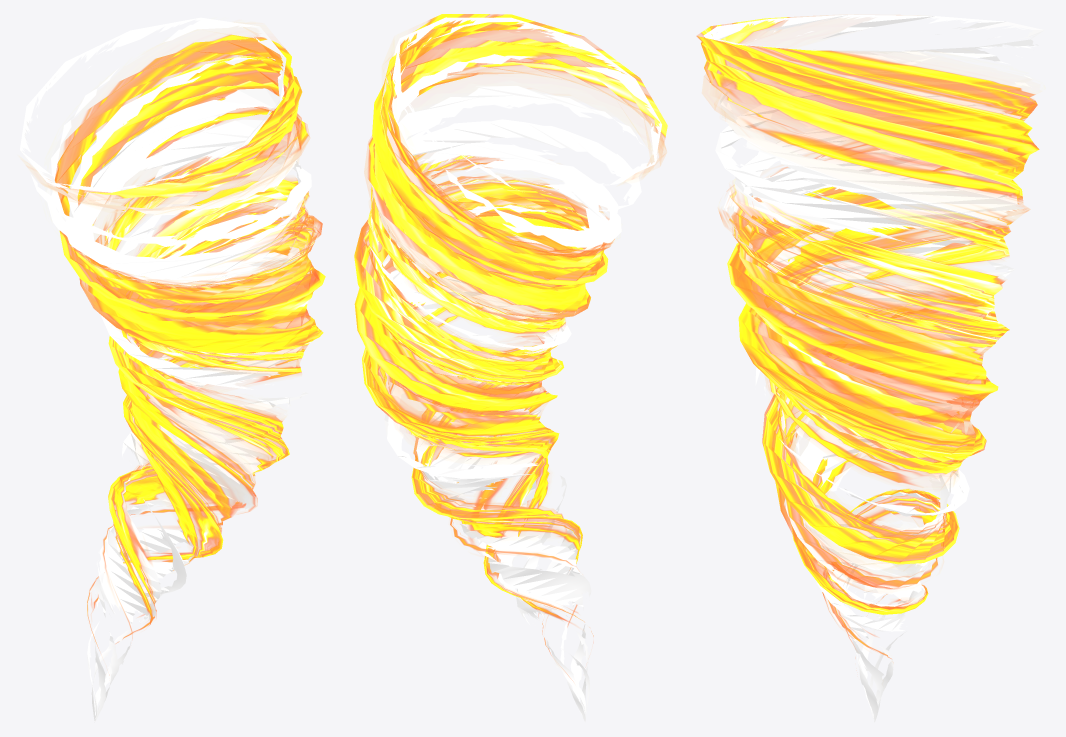
File: fire_temp_model.glb
3 renders of one model, left to right at view 1: azimuth 30°, elevation 25°; view 2: azimuth 150°, elevation 25°; view 3: azimuth 270°, elevation 25°, orthographic. The views are drawn at different scales.
Parts seen in each view (by area): view 1: Tube_0, Tube 1_1, Tube 2_2; view 2: Tube 1_1, Tube_0, Tube 2_2; view 3: Tube 1_1, Tube 2_2, Tube_0.
Boxes of the visible parts, <box> form: Tube_0: <box>20,17,311,722</box>; Tube 1_1: <box>26,28,325,638</box>; Tube 2_2: <box>79,150,323,650</box>; Tube 1_1: <box>354,14,667,626</box>; Tube_0: <box>362,17,661,722</box>; Tube 2_2: <box>354,153,603,680</box>; Tube 1_1: <box>696,15,1039,648</box>; Tube 2_2: <box>718,184,1028,658</box>; Tube_0: <box>703,14,1044,722</box>.
Size of the model in its own units: 1.42 by 3.15 by 1.31.
Materials: 3 (3 with a texture image).
